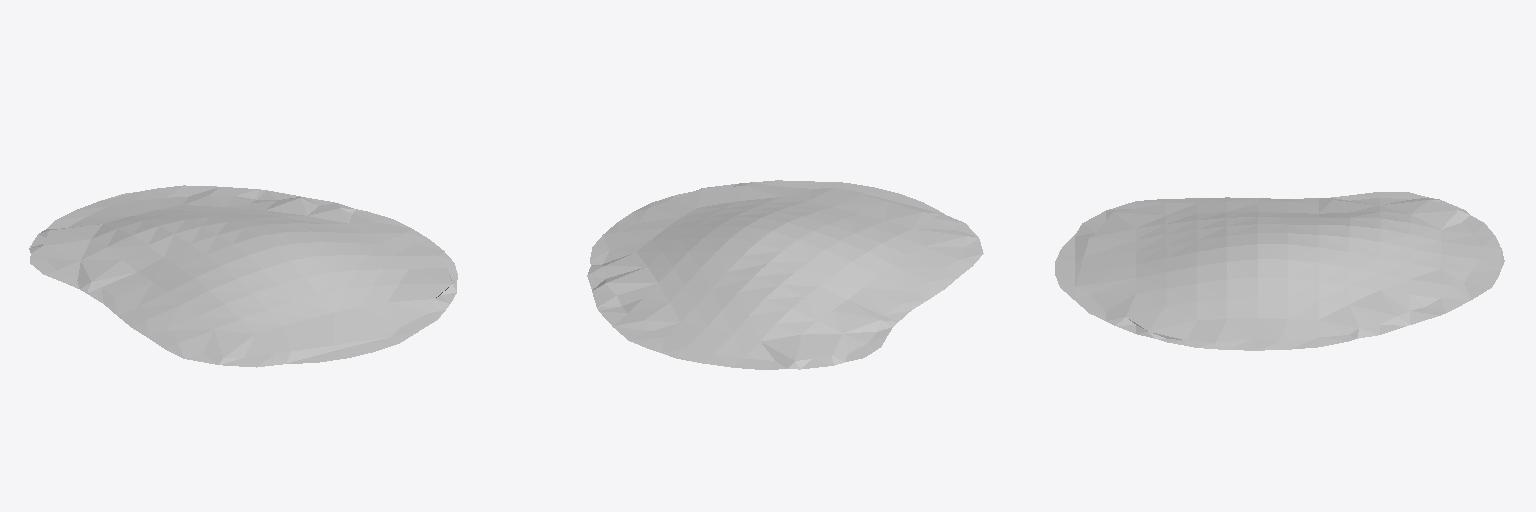
Rendered from island_tri.obj.
3 renders of one model, left to right at view 1: azimuth 30°, elevation 25°; view 2: azimuth 150°, elevation 25°; view 3: azimuth 270°, elevation 25°, orthographic.
Visible parts, largest first — view 1: Plane; view 2: Plane; view 3: Plane.
Part boxes in pixels (bbox=[...]): Plane: bbox=[29, 185, 457, 367]; Plane: bbox=[587, 180, 983, 369]; Plane: bbox=[1055, 192, 1504, 350].
Bounding box in the file's own units: 2.79 × 0.249 × 3.33.